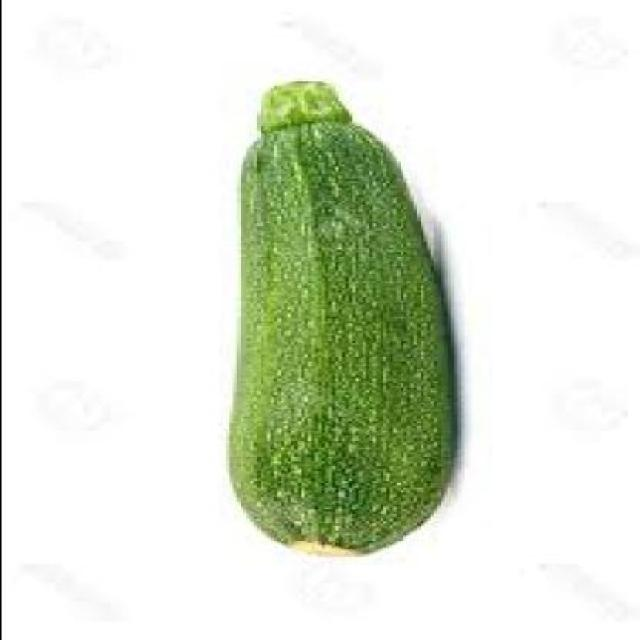BIODEGRADABLE: (222, 86, 449, 560)
